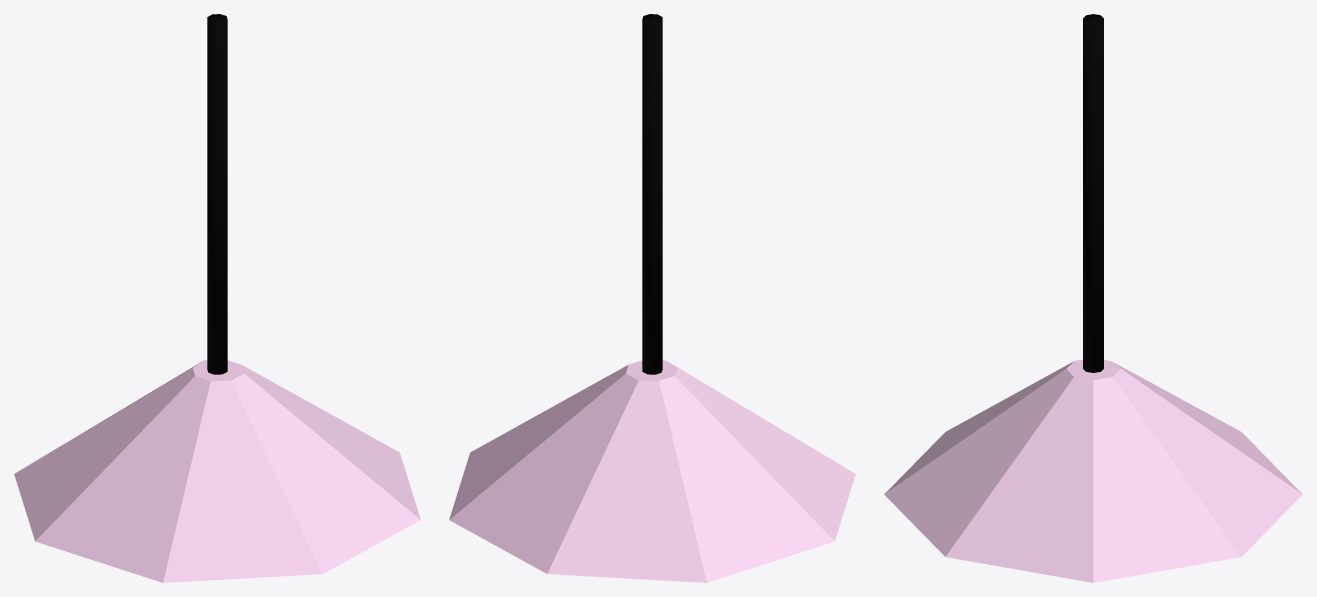
Rendered from Lamp.fbx.
The picture shows the model from 3 angles, left to right: view 1: azimuth 30°, elevation 25°; view 2: azimuth 150°, elevation 25°; view 3: azimuth 270°, elevation 25°; orthographic projection.
Visible parts, largest first — view 1: Cone, String; view 2: Cone, String; view 3: Cone, String.
Part boxes in pixels (box(x1,y1,x2,y2)): Cone: box(14, 360, 420, 582); String: box(207, 14, 227, 374); Cone: box(449, 360, 855, 582); String: box(642, 14, 662, 374); Cone: box(884, 359, 1302, 582); String: box(1083, 14, 1103, 372).
Size of the model in its own units: 200 by 251 by 200.
